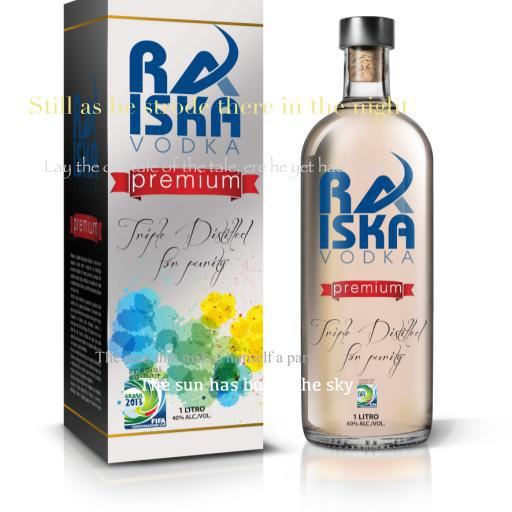Didot: (27, 96, 409, 121)
Kefa: (139, 377, 353, 395)
Papyrus: (44, 156, 386, 180)
Times New Roman: (95, 351, 311, 366)
